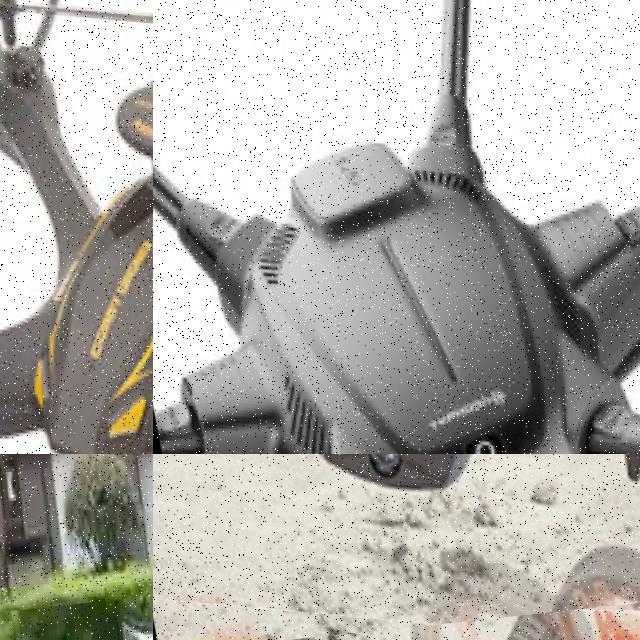drone: (153, 0, 640, 454), (153, 454, 640, 640), (0, 0, 153, 454)
